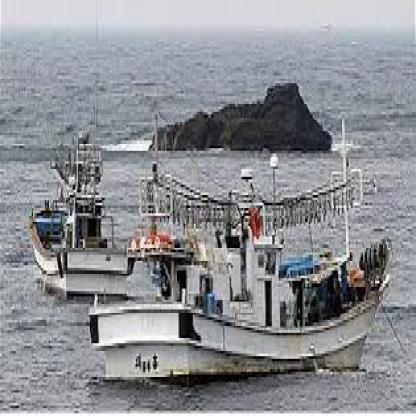fish-b: (81, 106, 400, 397), (33, 63, 139, 302)
